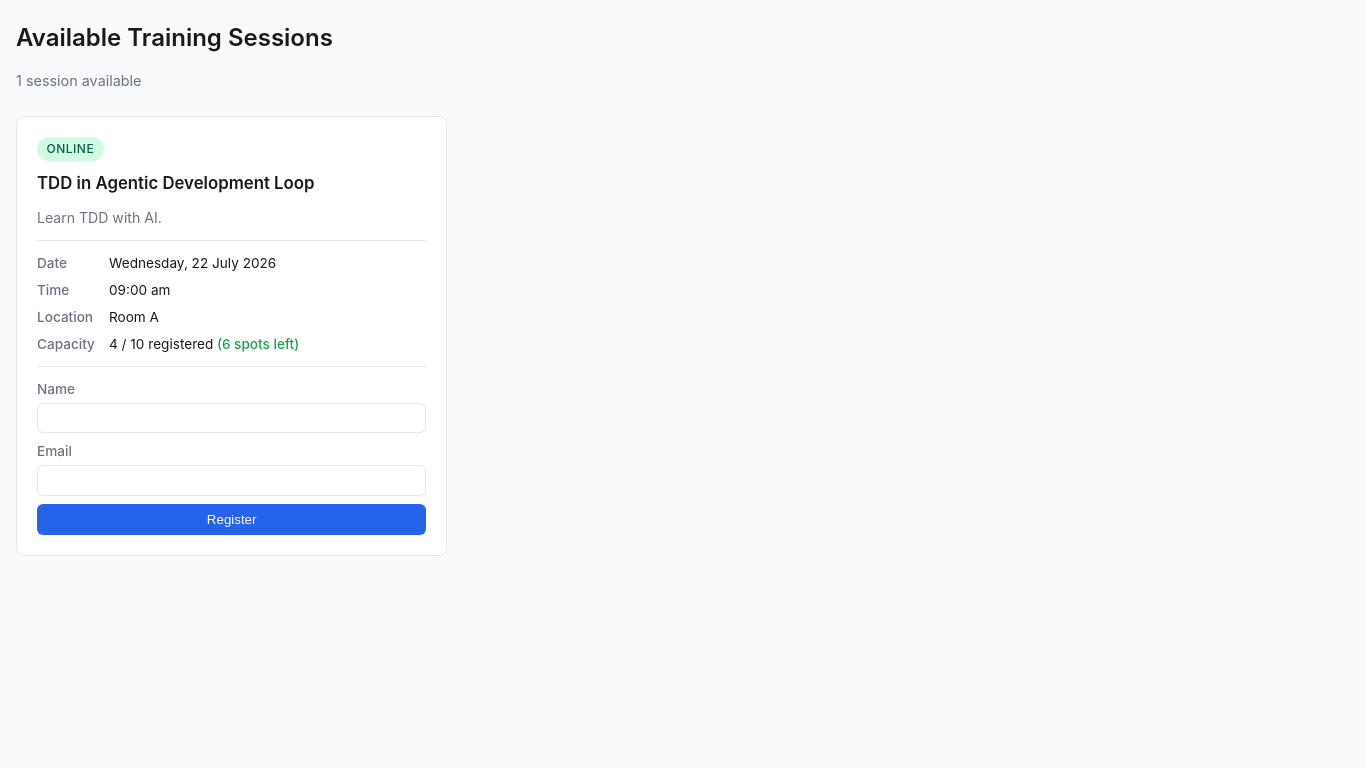
it: TrainingSessionsPage registration › treats 202 as success, shows the waitlist position and leaves the count unchanged
Expected: the link "TDD in Agentic Development Loop" is shown, top-left (37, 173), bottom-right (314, 193)
In the field labelled "Name": (232, 418) top-left (37, 402), bottom-right (426, 433), type "Ada Lovelace"
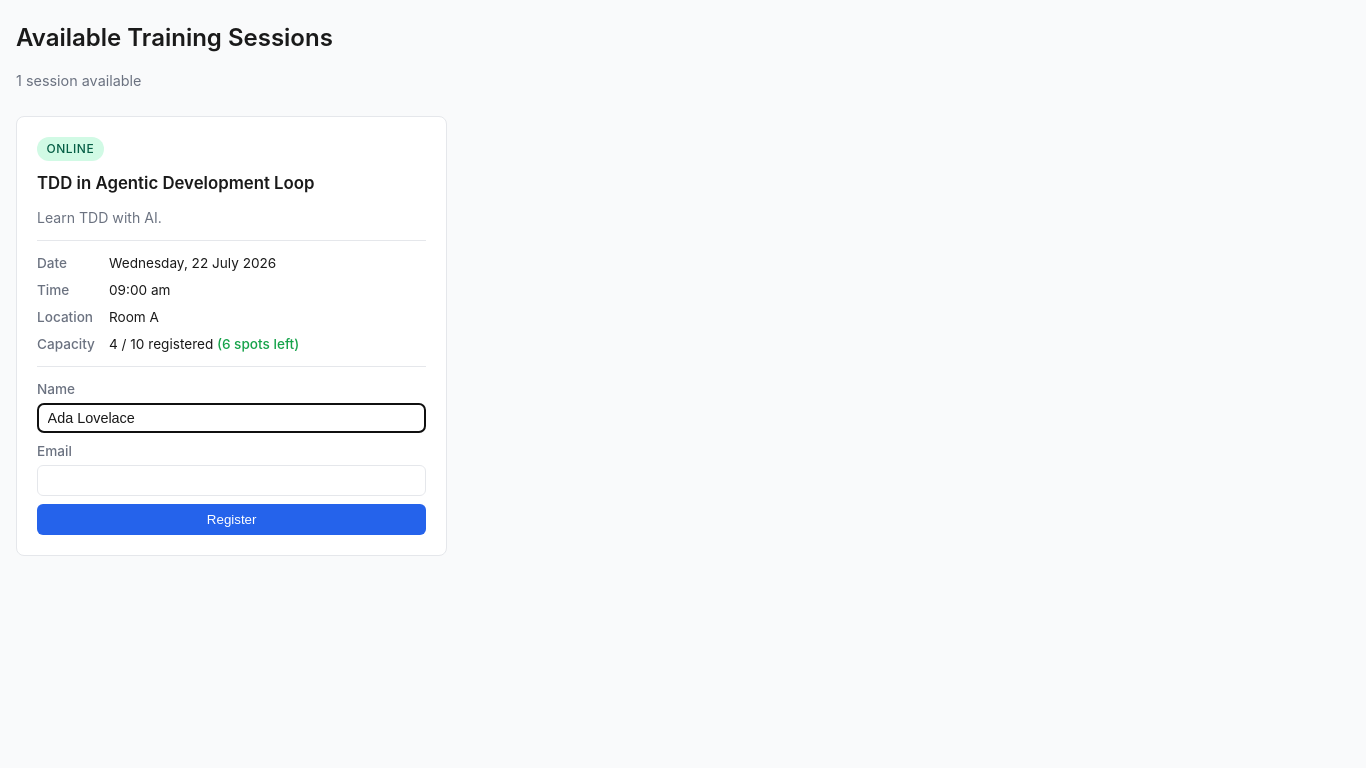
In the field labelled "Email": (232, 480) top-left (37, 465), bottom-right (426, 496), type "ada@example.com"
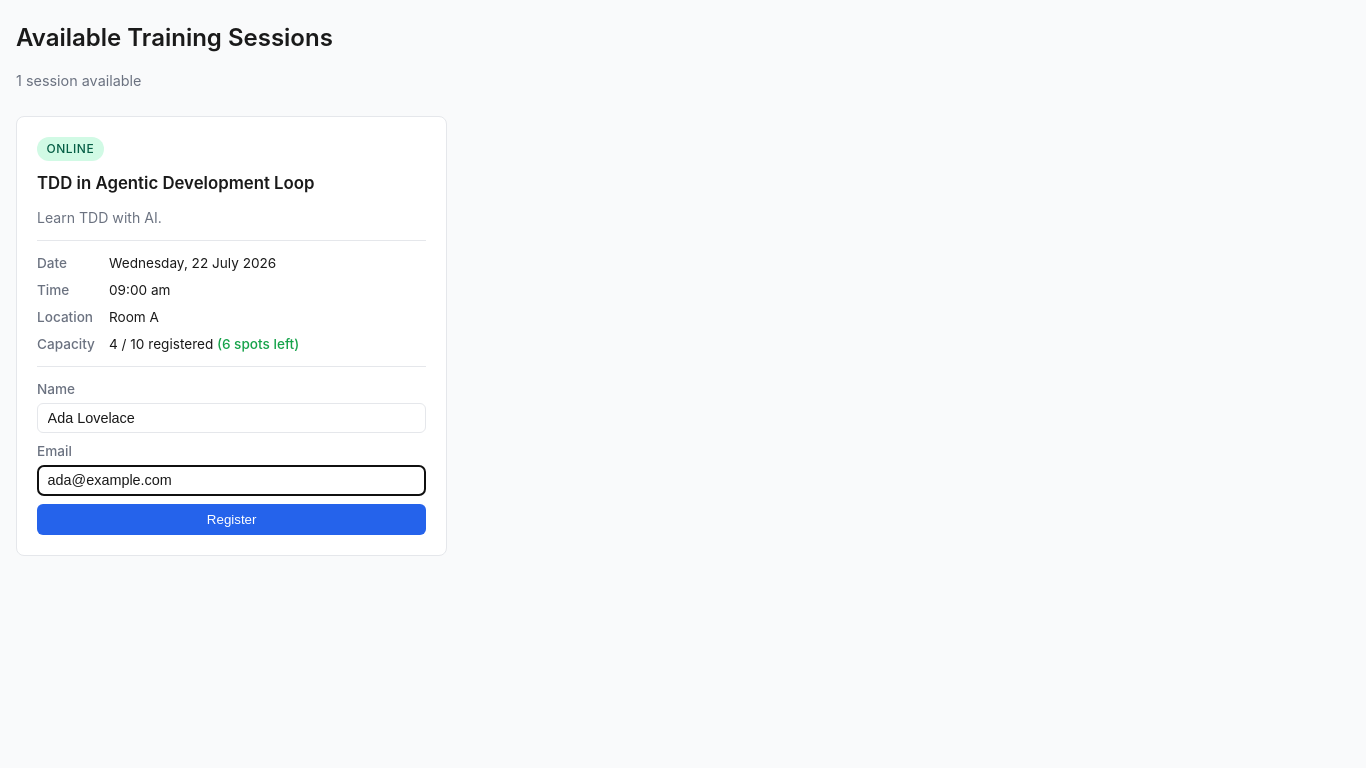
Click the button "Register": (232, 519) top-left (37, 504), bottom-right (426, 535)
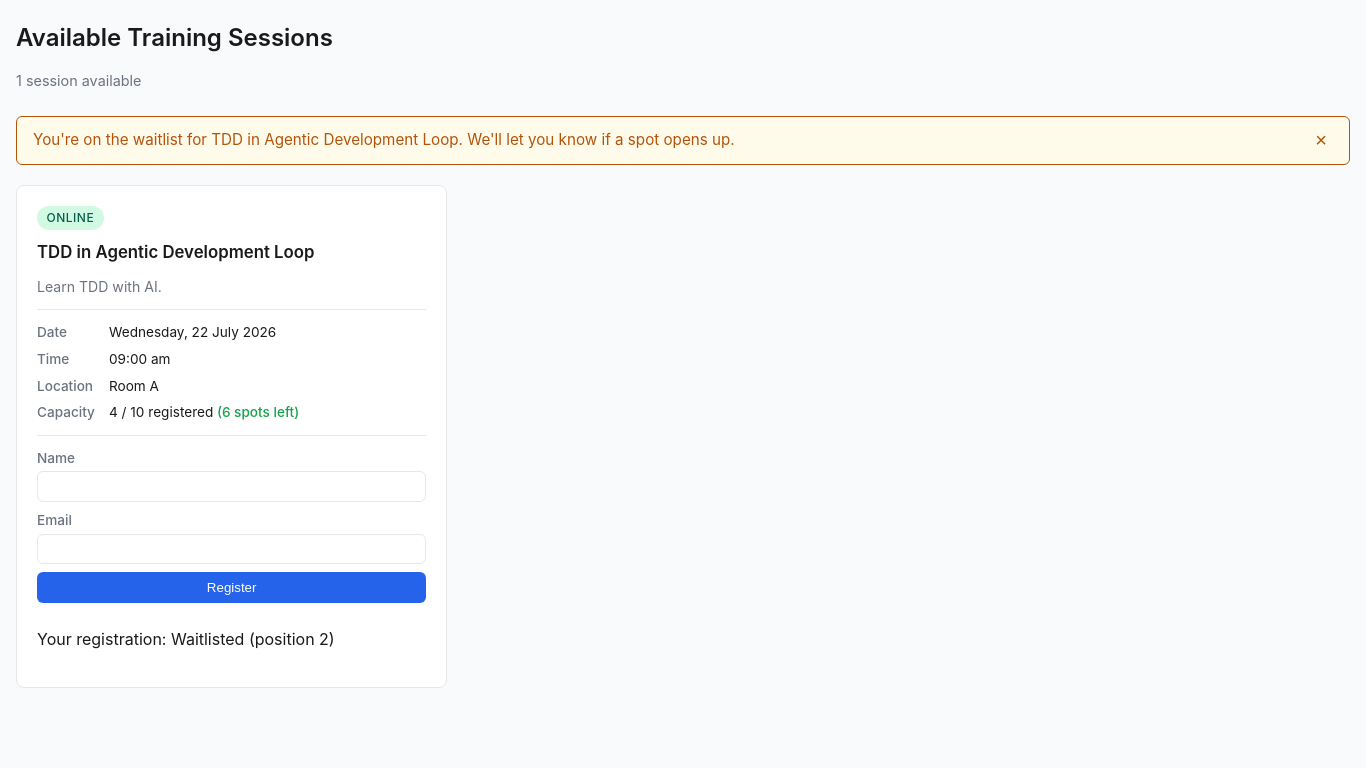
Expected: the text "4 / 10 registered (6 spots left)" is shown, top-left (109, 402), bottom-right (299, 423)
Expected: the text "Your registration: Waitlisted (position 2)" is shown, top-left (37, 630), bottom-right (335, 650)
